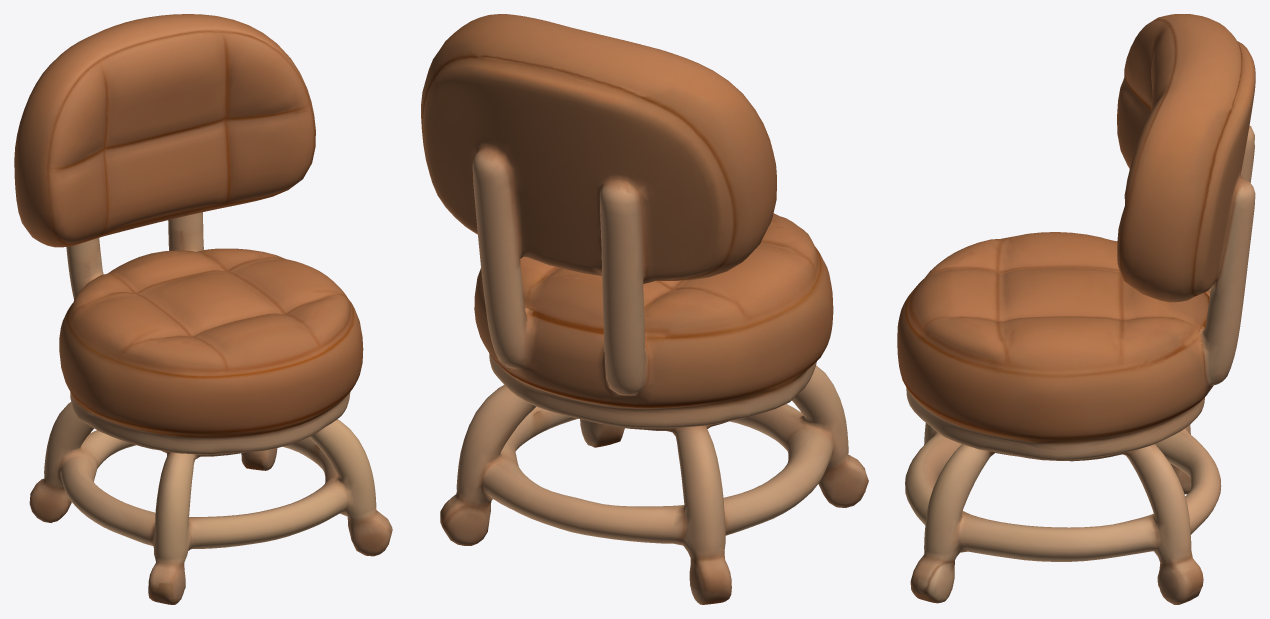
File: Orange_Tufted_Round_Chair.glb
The picture shows the model from 3 angles, left to right: view 1: azimuth 30°, elevation 25°; view 2: azimuth 150°, elevation 25°; view 3: azimuth 270°, elevation 25°; orthographic projection. The views are drawn at different scales.
Bounding box in the file's own units: 1.23 × 1.91 × 1.24.
Materials: 1 (1 with a texture image).
